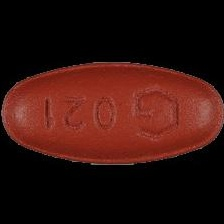59762-5022: (0, 0, 224, 224)
